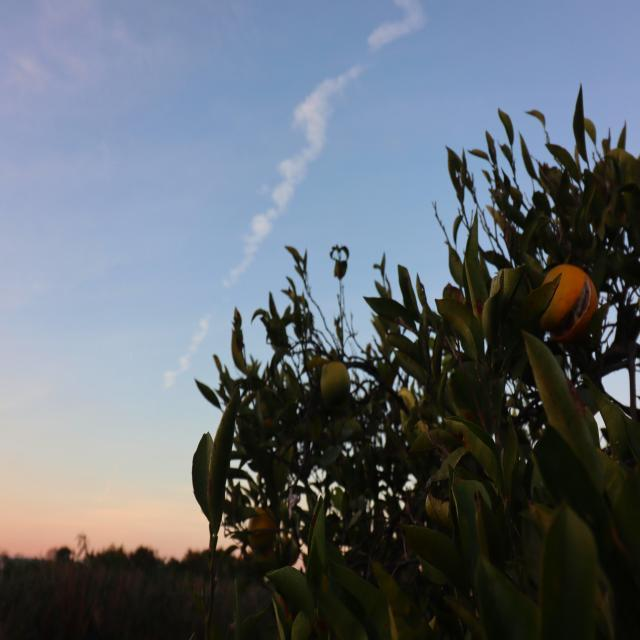Jeruk Belum Matang: (316, 360, 350, 410)
Jeruk Sudah Matang: (542, 266, 600, 348), (244, 504, 286, 563)
